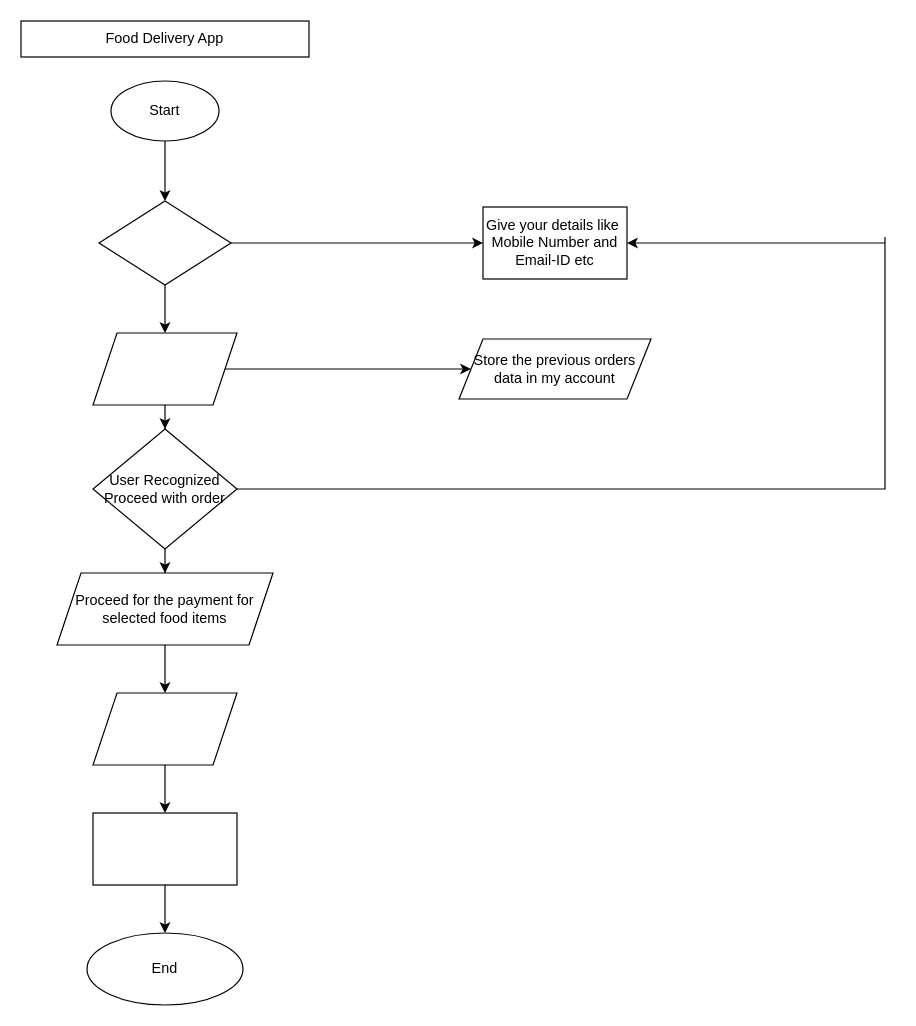
Some shapes in this 916 by 1026 pixel diagram are drawn without their labels. The box of each missing label's shape, as (x1, y1, x2, y2) in pixels:
complete the payment: (92, 692, 237, 765)
Login into your account: (92, 332, 237, 405)
New User Sign Up: (98, 200, 231, 285)
Provide the delivery tracking Link: (92, 812, 237, 885)
